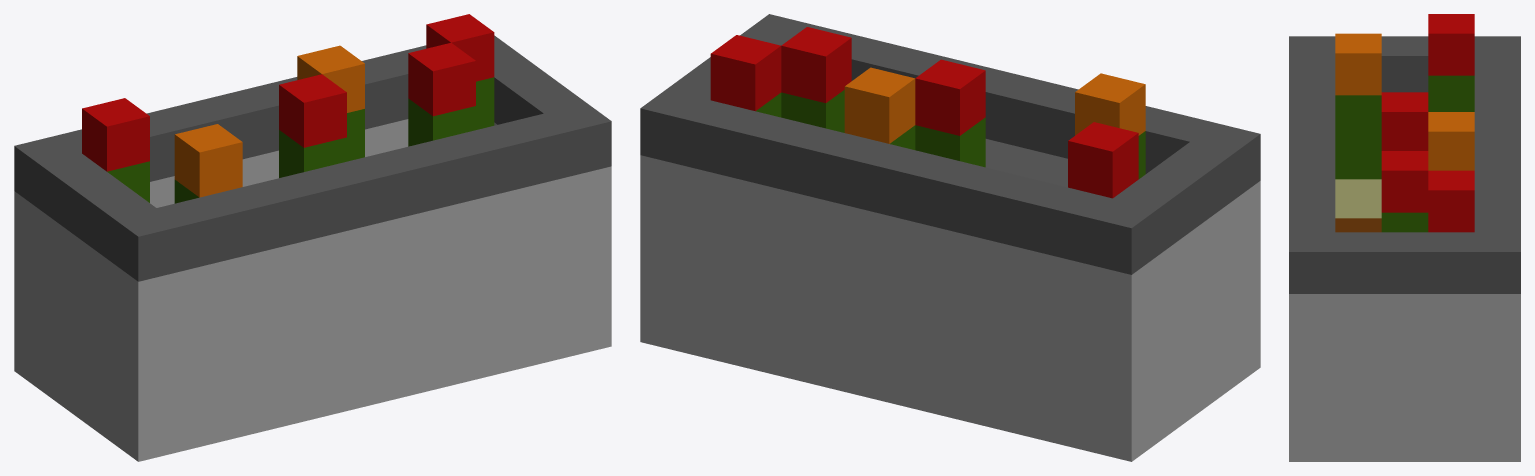
File: obj_planter3a.obj
3 renders of one model, left to right at view 1: azimuth 30°, elevation 25°; view 2: azimuth 150°, elevation 25°; view 3: azimuth 270°, elevation 25°, orthographic. The views are drawn at different scales.
Bounding box in the file's own units: 1.1 × 0.6 × 0.5.
1 material, 1 textured.
